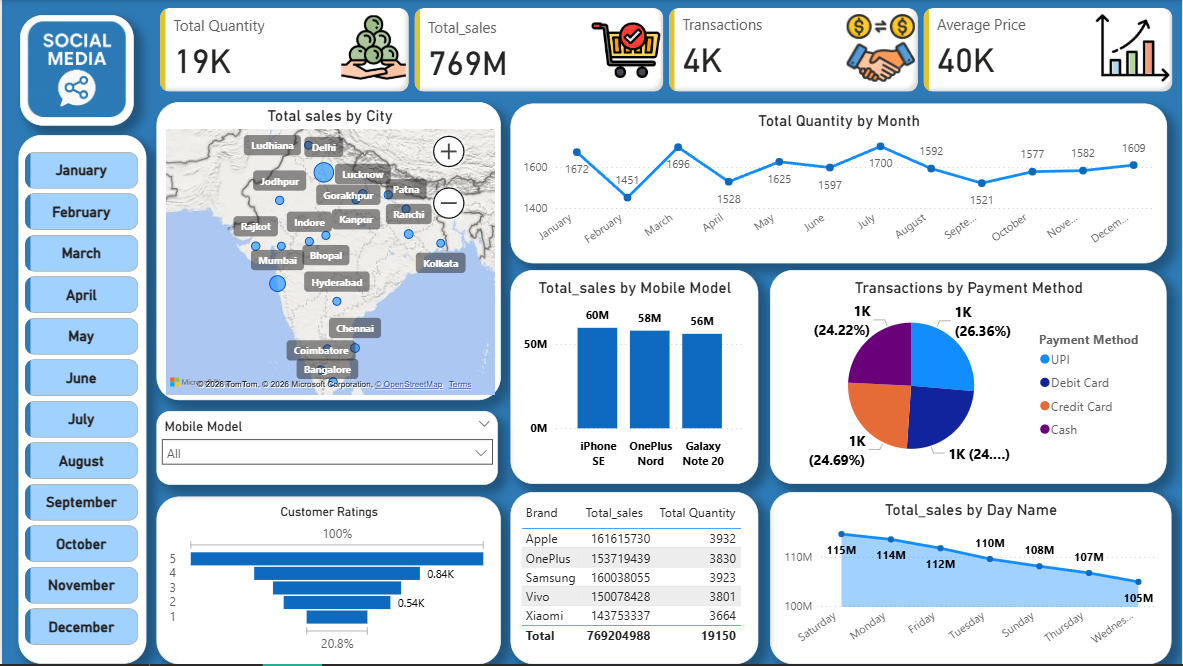

Layout of this report page (visuals, bound fields, positions):
{"tool":"powerbi","page":{"name":"Page 1","canvas":[1280,720],"ordinal":0},"visuals":[{"type":"shape","box":[20,16.7,123.3,120],"z":0},{"type":"image","box":[18.3,18.3,126.7,115],"z":1000},{"type":"shape","box":[18.3,146.7,138.3,573.3],"z":2000},{"type":"advancedSlicerVisual","fields":{"Values":["Sales_Data.Date.Variation.Date Hierarchy.Month"]},"box":[20,160,133.3,545],"z":3000},{"type":"shape","box":[168.3,110,373.3,323.3],"z":4000},{"type":"cardVisual","fields":{"Data":["Sales_Data.Total Quantity","Sales_Data.Total_sales","Sales_Data.Transactions","Sales_Data.Average Price"]},"box":[166,4,1110,101],"z":5000},{"type":"map","title":"Total sales by City","fields":{"Category":["Sales_Data.City"],"Size":["Sales_Data.Total_sales"]},"box":[171.7,115,366.7,318.3],"z":6000},{"type":"lineChart","fields":{"Category":["Sales_Data.Date.Variation.Date Hierarchy.Month","Sales_Data.Date.Variation.Date Hierarchy.Day"],"Y":["Sales_Data.Total Quantity"]},"box":[551.7,111.7,711.7,173.3],"z":7000},{"type":"clusteredColumnChart","fields":{"Category":["Sales_Data.Mobile Model"],"Y":["Sales_Data.Total_sales"]},"box":[551.7,293.3,268.3,231.7],"z":8000},{"type":"pieChart","fields":{"Category":["Sales_Data.Payment Method"],"Y":["Sales_Data.Transactions"]},"box":[833.3,293.3,430,231.7],"z":9000},{"type":"funnel","title":"Customer Ratings","fields":{"Category":["Sales_Data.Customer Ratings"],"Y":["CountNonNull(Sales_Data.Customer Ratings)"]},"box":[168.3,538.3,373.3,181.7],"z":9001},{"type":"areaChart","fields":{"Category":["Sales_Data.Day Name"],"Y":["Sales_Data.Total_sales"]},"box":[833.3,533.3,435,186.7],"z":9002},{"type":"slicer","fields":{"Values":["Sales_Data.Mobile Model"]},"box":[168.3,445,370,80],"z":9003},{"type":"tableEx","fields":{"Values":["Sales_Data.Brand","Sales_Data.Total_sales","Sales_Data.Total Quantity"]},"box":[551.7,533.3,268.3,186.7],"z":9004}]}

Visuals, with their boxes in screenshot pixels (x1, y1, x2, y2), scaled from the page's 1280x720 canvas onto the 1183x666 screenshot:
shape: l=18, t=15, r=132, b=126
image: l=17, t=17, r=134, b=123
shape: l=17, t=136, r=145, b=665
advancedSlicerVisual - Sales_Data.Date.Variation.Date Hierarchy.Month: l=18, t=148, r=142, b=652
shape: l=156, t=102, r=501, b=401
cardVisual - Sales_Data.Total Quantity x Sales_Data.Total_sales: l=153, t=4, r=1179, b=97
"Total sales by City" map: l=159, t=106, r=498, b=401
lineChart - Sales_Data.Date.Variation.Date Hierarchy.Month x Sales_Data.Date.Variation.Date Hierarchy.Day: l=510, t=103, r=1168, b=264
clusteredColumnChart - Sales_Data.Mobile Model x Sales_Data.Total_sales: l=510, t=271, r=758, b=486
pieChart - Sales_Data.Payment Method x Sales_Data.Transactions: l=770, t=271, r=1168, b=486
"Customer Ratings" funnel: l=156, t=498, r=501, b=665
areaChart - Sales_Data.Day Name x Sales_Data.Total_sales: l=770, t=493, r=1172, b=665
slicer - Sales_Data.Mobile Model: l=156, t=412, r=498, b=486
tableEx - Sales_Data.Brand x Sales_Data.Total_sales: l=510, t=493, r=758, b=665
